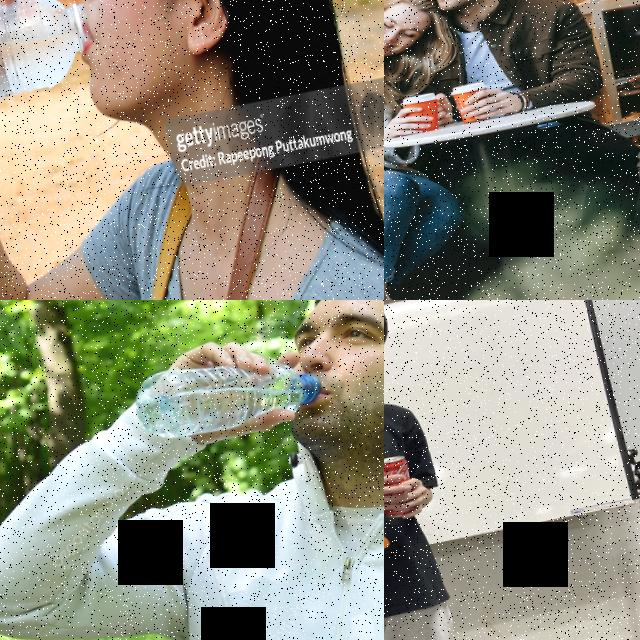bottle: (134, 337, 332, 445), (0, 0, 105, 146)
can: (384, 453, 418, 520)
cup: (449, 80, 495, 126), (399, 91, 446, 136)
